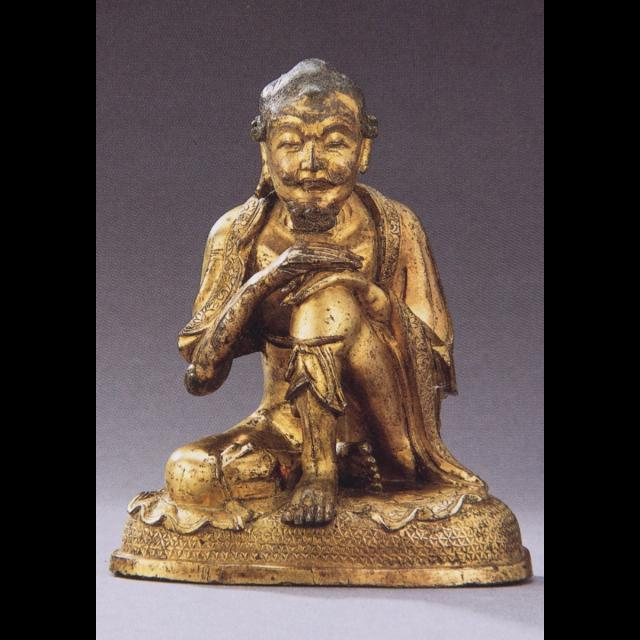buddha-sitting: (110, 60, 531, 587)
